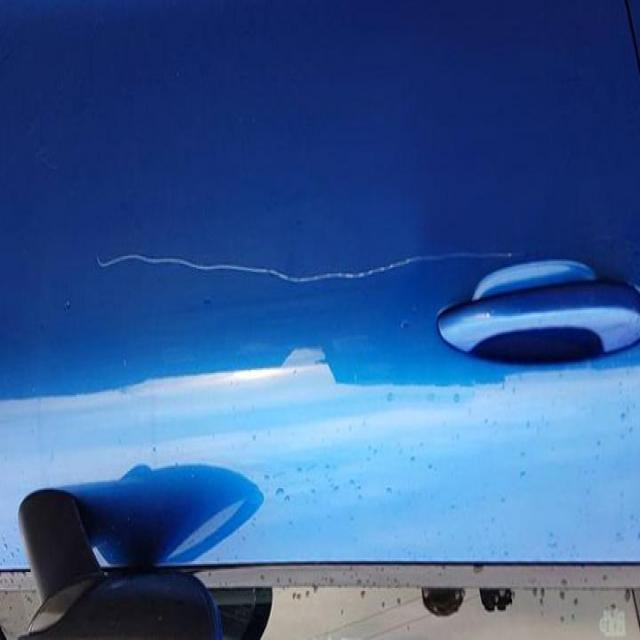scratch: (89, 232, 484, 307)
